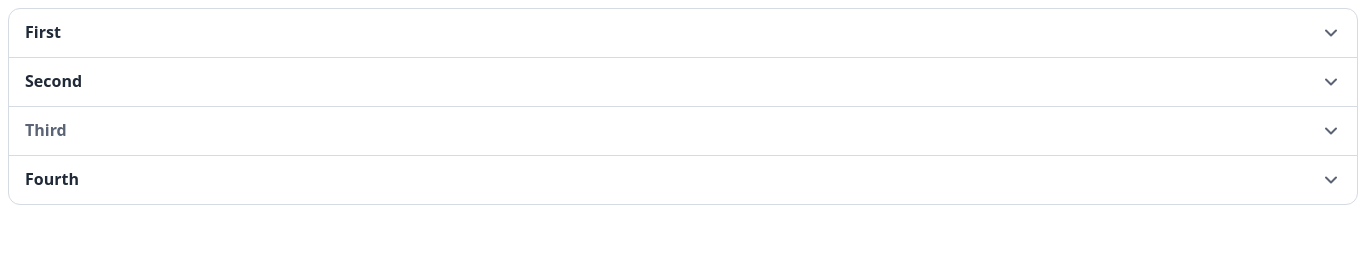
Test: Accordion behaviour › single mode closes the other item
What coordinates should you click on to do the following:
click the button "First"
I would click on:
 (43, 32)
Its box is x1=9 y1=9 x2=1357 y2=57.
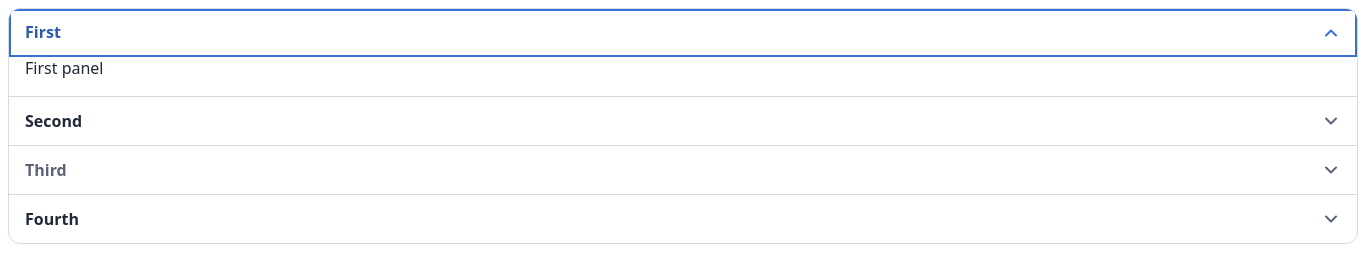
What coordinates should you click on to do the following:
click the button "Second"
I would click on:
 (54, 121)
Its box is x1=9 y1=97 x2=1357 y2=145.
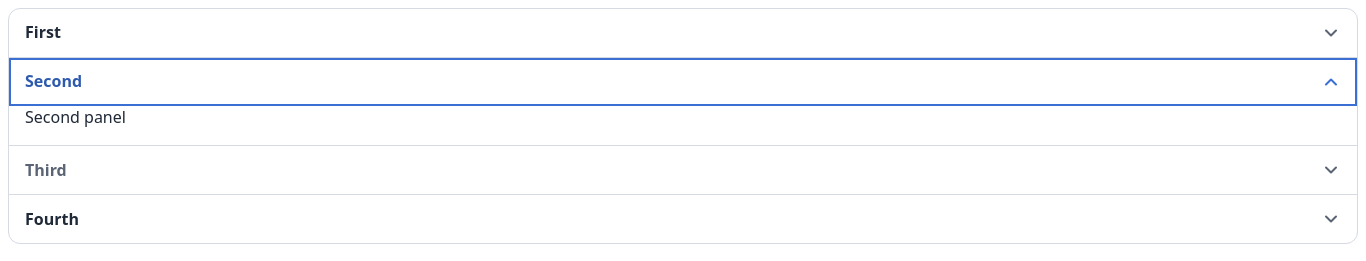
Check: the button "First" is collapsed, box x1=9 y1=9 x2=1357 y2=57
Check: the button "Second" is expanded, box x1=9 y1=58 x2=1357 y2=106
